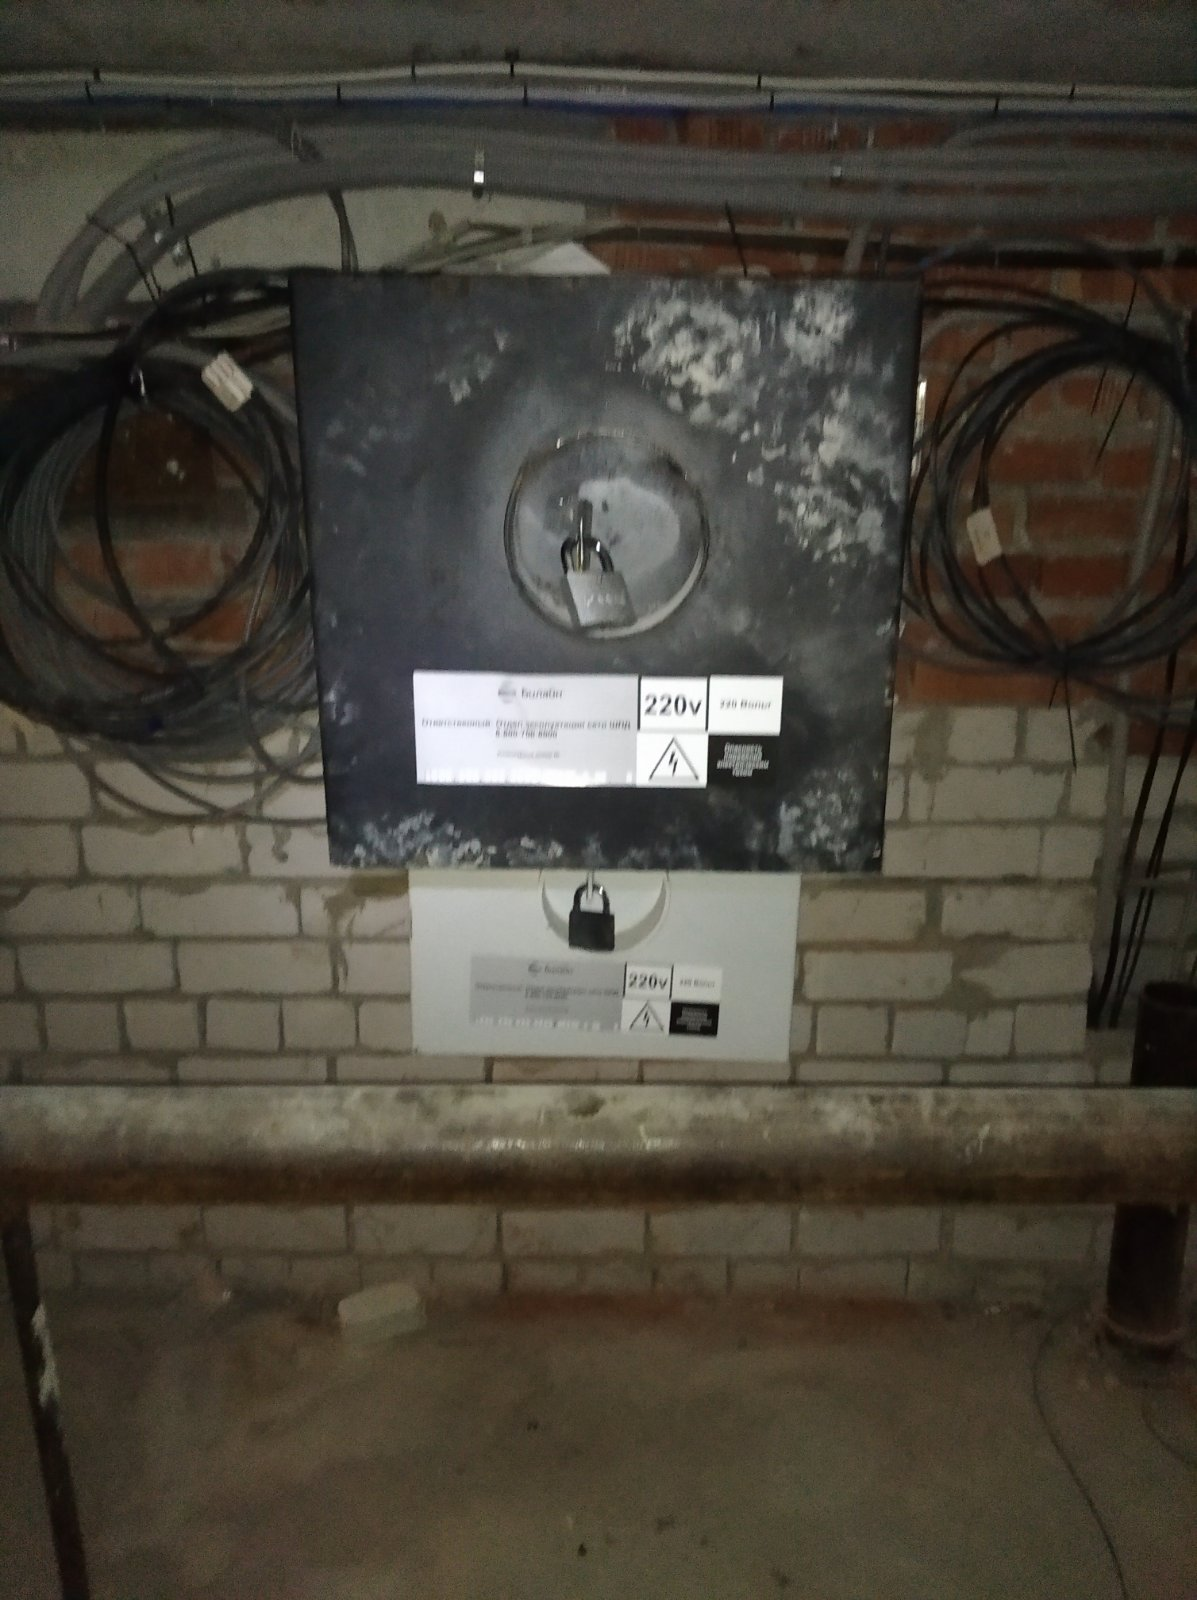shta-3: (389, 856, 819, 1066)
shta-9: (267, 240, 942, 896)
